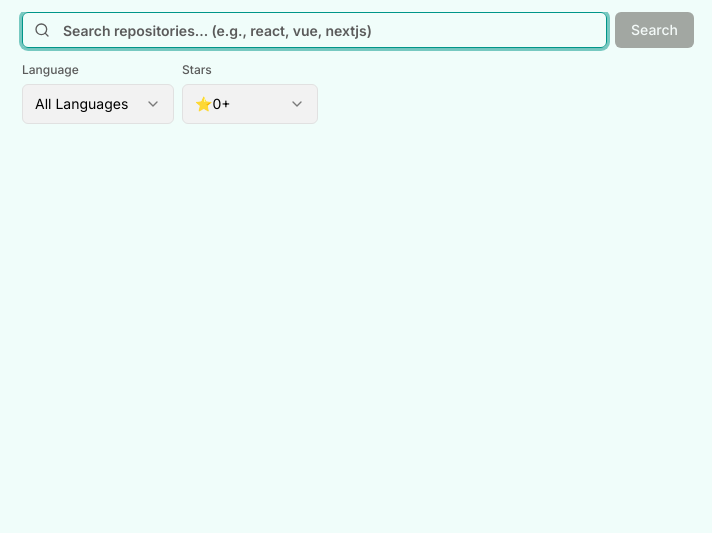
Test: Search Flow Integration › clear filters › shows Clear Filters button when filters active
# Select a filter
Click the dropdown labelled "All Languages". click: point(98, 104)
box: [22,84,174,124]
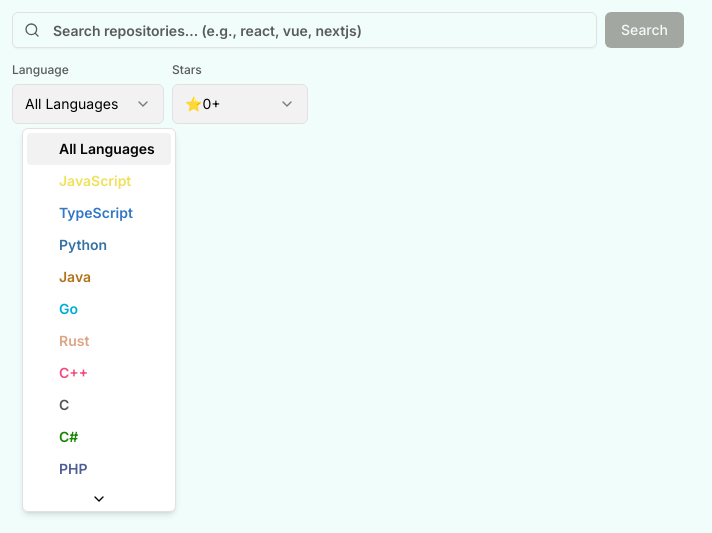
Click the option "JavaScript". click: point(95, 180)
box: [59,172,131,189]
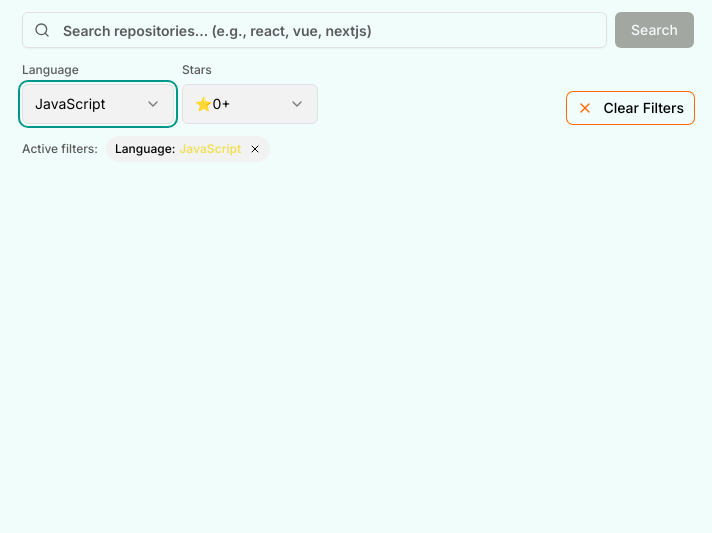
Expected: the button "Clear Filters" is shown, [567,92,694,124]
